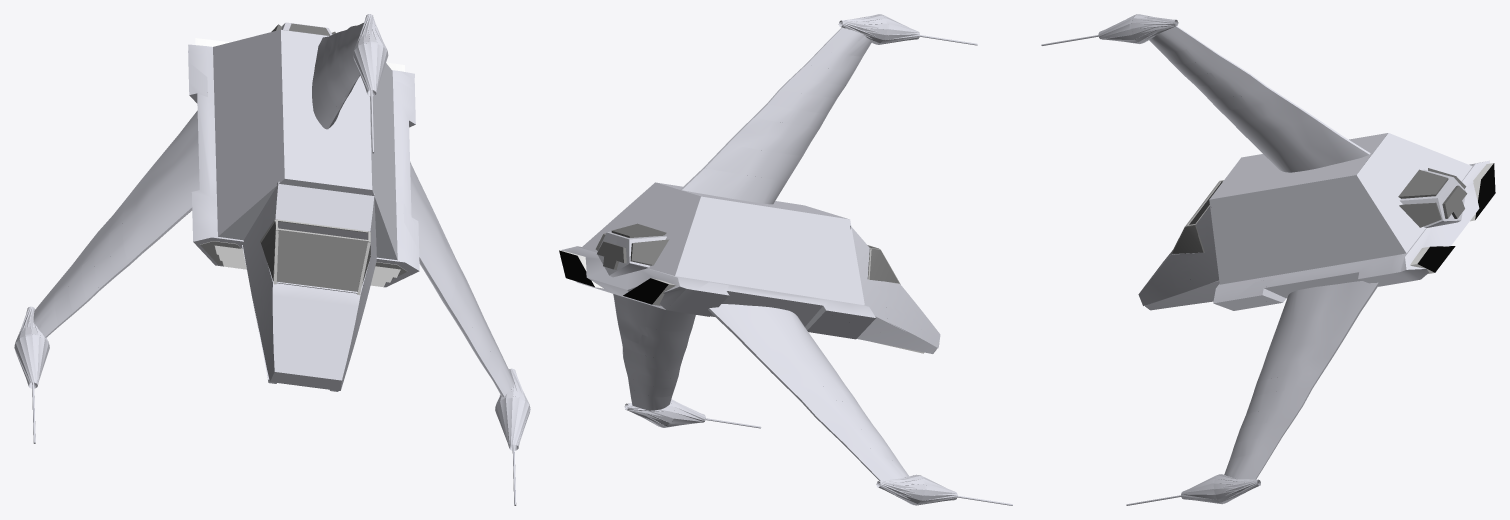
Rendered from EscortSh.fbx.
3 views of the same model, side by side, from view 1: azimuth 30°, elevation 25°; view 2: azimuth 150°, elevation 25°; view 3: azimuth 270°, elevation 25° (orthographic). The views are drawn at different scales.
Parts seen in each view (by area): view 1: Top_Hull, Cockpit, Right_Wi, Hull, Left_win, Rectan0, Top_Wing, Line14, Line15, Line16; view 2: Top_Hull, Top_Wing, Right_Wi, Hull, Left_win, Cockpit, Line15, Line14, Cockpit_, Line16, Line05, Line10 (+5 smaller); view 3: Top_Hull, Left_win, Top_Wing, Hull, Cockpit, Line14, Line16, Line05, Cockpit_, Line09, Line11, Line02 (+3 smaller).
Boxes of the visible parts, <box> form: Top_Hull: <box>213,29,397,260</box>; Cockpit: <box>242,181,376,390</box>; Right_Wi: <box>33,110,199,337</box>; Hull: <box>188,44,419,287</box>; Left_win: <box>410,161,513,396</box>; Rectan0: <box>276,230,369,291</box>; Top_Wing: <box>312,23,363,129</box>; Line14: <box>353,14,388,96</box>; Line15: <box>14,306,49,388</box>; Line16: <box>495,368,530,450</box>; Top_Hull: <box>581,182,864,305</box>; Top_Wing: <box>680,27,871,204</box>; Right_Wi: <box>708,304,908,480</box>; Hull: <box>561,246,875,339</box>; Left_win: <box>613,294,695,410</box>; Cockpit: <box>850,225,940,347</box>; Line15: <box>876,474,957,505</box>; Line14: <box>838,14,919,44</box>; Cockpit_: <box>857,316,937,353</box>; Line16: <box>624,399,705,427</box>; Line05: <box>597,231,666,277</box>; Line10: <box>630,239,669,265</box>; Top_Hull: <box>1209,133,1472,284</box>; Left_win: <box>1224,281,1379,479</box>; Top_Wing: <box>1149,26,1370,172</box>; Hull: <box>1213,160,1490,310</box>; Cockpit: <box>1138,206,1218,305</box>; Line14: <box>1098,14,1178,43</box>; Line16: <box>1181,474,1260,504</box>; Line05: <box>1400,169,1465,227</box>; Cockpit_: <box>1145,280,1219,310</box>; Line09: <box>1398,169,1448,198</box>; Line11: <box>1399,202,1441,227</box>; Line02: <box>1172,225,1203,253</box>.
Bounding box in the file's own units: 515 × 540 × 510.
68 materials, 68 textured.
